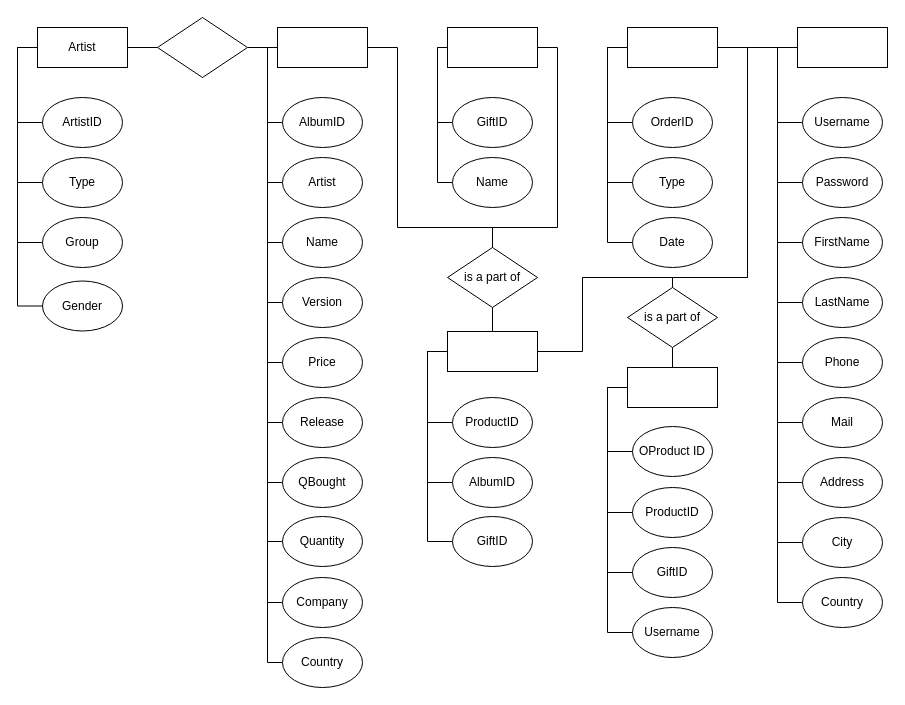
The diagram is 905 pixels wide and 705 high, and some of its shapes have lost their labels. Each missing label, with the box of its shape:
Album: (276, 26, 368, 68)
Gift: (446, 26, 538, 68)
has: (156, 16, 248, 78)
Odrer: (626, 26, 718, 68)
Ordered product: (626, 366, 718, 408)
Product: (446, 330, 538, 372)
User: (796, 26, 888, 68)
